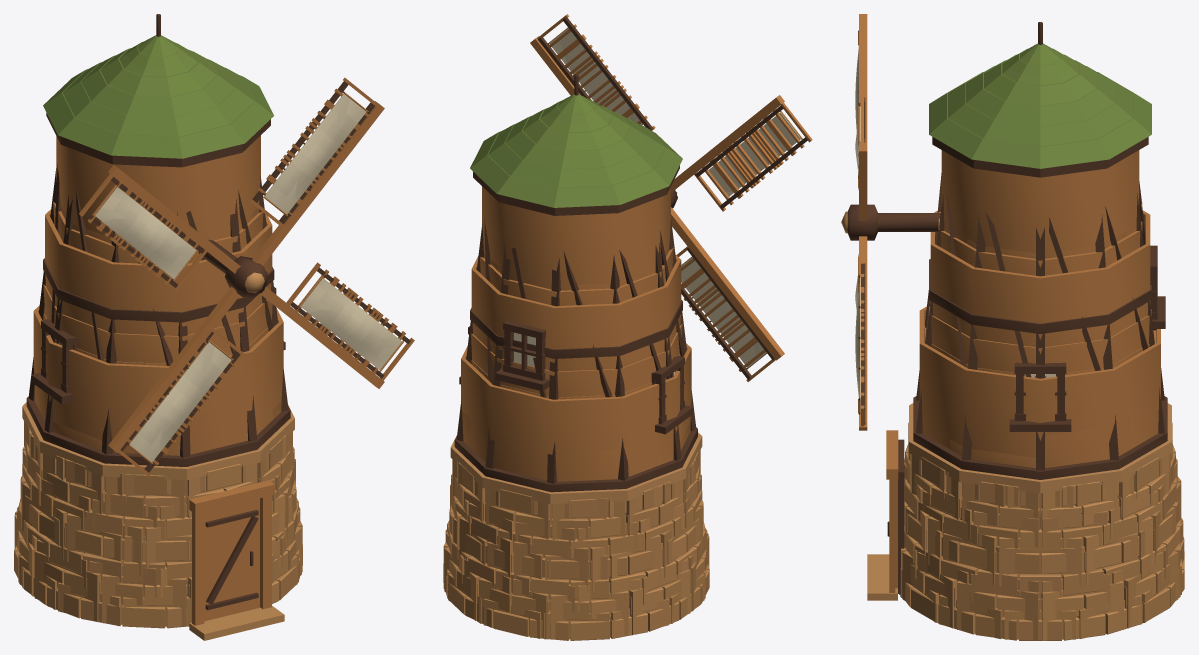
Rendered from building_windmill_a.glb.
The picture shows the model from 3 angles, left to right: view 1: azimuth 30°, elevation 25°; view 2: azimuth 150°, elevation 25°; view 3: azimuth 270°, elevation 25°; orthographic projection. The views are drawn at different scales.
Visible parts, largest first — view 1: building_windmill_a_LOD2_mill, building_windmill_a_LOD0_mill, building_windmill_a_LOD1_mill, windmill_sail_canvas, building_windmill_a_LOD1_sails, building_windmill_a_LOD2_sails; view 2: building_windmill_a_LOD2_mill, building_windmill_a_LOD0_mill, building_windmill_a_LOD1_mill, windmill_sail_canvas, building_windmill_a_LOD1_sails, building_windmill_a_LOD2_sails; view 3: building_windmill_a_LOD2_mill, building_windmill_a_LOD0_mill, building_windmill_a_LOD1_mill, windmill_sail_canvas, building_windmill_a_LOD1_sails.
Boxes of the visible parts, x1,y1,x2,y2 form: building_windmill_a_LOD2_mill: (14, 35, 302, 640); building_windmill_a_LOD0_mill: (14, 14, 302, 640); building_windmill_a_LOD1_mill: (17, 14, 300, 640); windmill_sail_canvas: (79, 78, 414, 476); building_windmill_a_LOD1_sails: (79, 78, 414, 476); building_windmill_a_LOD2_sails: (102, 94, 384, 447); building_windmill_a_LOD2_mill: (443, 94, 709, 639); building_windmill_a_LOD0_mill: (443, 74, 709, 640); building_windmill_a_LOD1_mill: (445, 75, 707, 639); windmill_sail_canvas: (530, 14, 811, 381); building_windmill_a_LOD1_sails: (530, 14, 812, 381); building_windmill_a_LOD2_sails: (536, 28, 800, 367); building_windmill_a_LOD2_mill: (867, 44, 1181, 640); building_windmill_a_LOD0_mill: (867, 22, 1184, 640); building_windmill_a_LOD1_mill: (867, 22, 1183, 639); windmill_sail_canvas: (841, 14, 877, 430); building_windmill_a_LOD1_sails: (842, 14, 877, 430).
Size of the model in its own units: 6.22 by 9.85 by 5.49.
